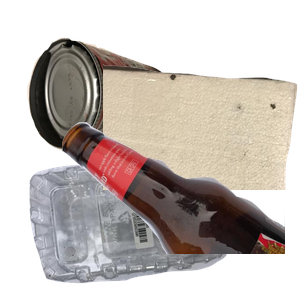glass: (60, 120, 300, 300)
metal: (25, 35, 189, 180)
plastic: (27, 152, 247, 300)
trash: (103, 62, 300, 242)
